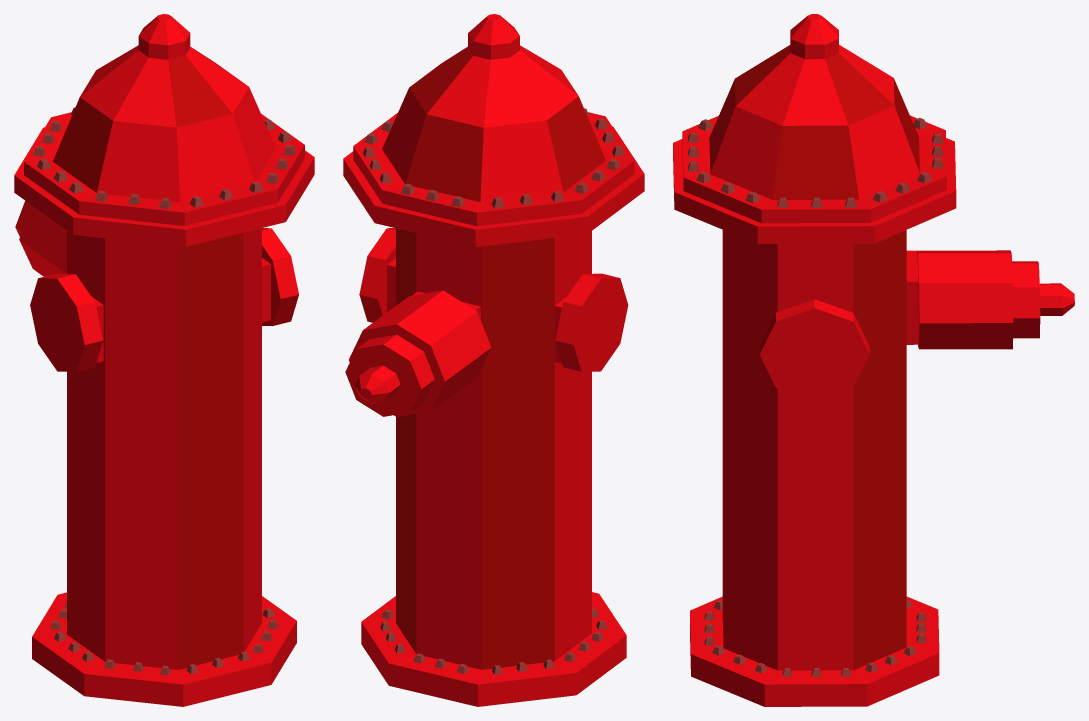
File: Fire Hydrant .fbx
3 views of the same model, side by side, from view 1: azimuth 30°, elevation 25°; view 2: azimuth 150°, elevation 25°; view 3: azimuth 270°, elevation 25° (orthographic).
Visible parts, largest first — view 1: Cube; view 2: Cube; view 3: Cube.
Boxes of the visible parts, left/top/right/bottom form: Cube: left=14, top=14, right=314, bottom=706; Cube: left=343, top=14, right=644, bottom=706; Cube: left=673, top=14, right=1074, bottom=706.
Bounding box in the file's own units: 211 × 523 × 299.
